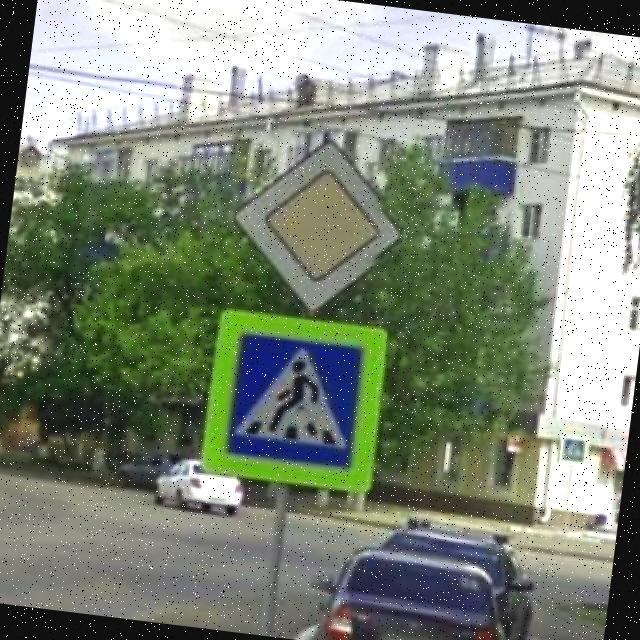Droga z pierwszenstwem: (219, 124, 414, 328)
Przejscie dla pieszych: (198, 308, 390, 496)
